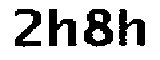2: (13, 7, 42, 49)
8: (83, 5, 115, 49)
h: (117, 5, 149, 51), (47, 6, 80, 50)
